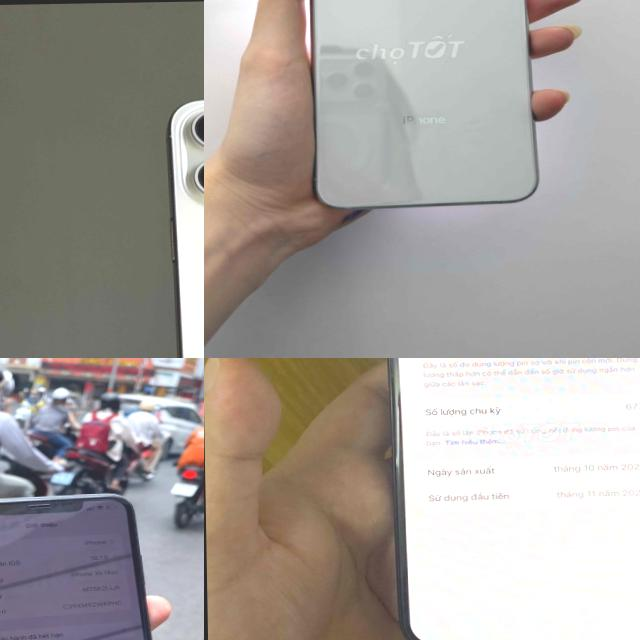gen_15: (369, 358, 640, 640), (138, 82, 204, 358)
gen_x_xs: (309, 0, 537, 211), (0, 491, 172, 640)
